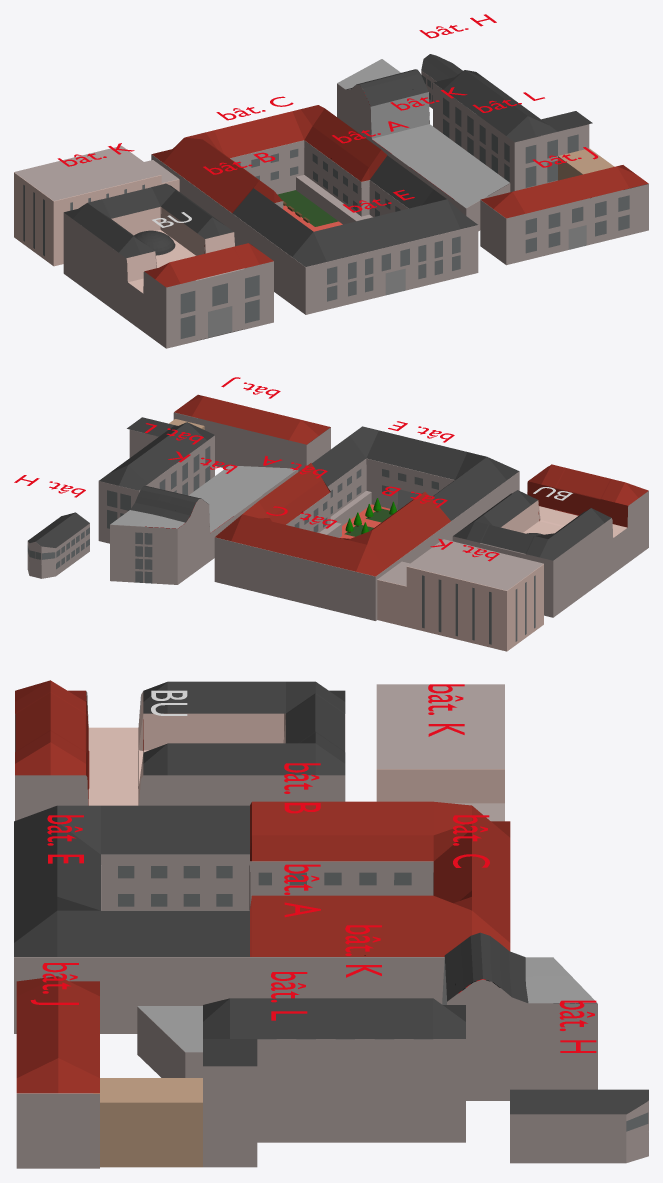
The model's file is bat4.glb.
3 views of the same model, one above another, from view 1: azimuth 30°, elevation 25°; view 2: azimuth 150°, elevation 25°; view 3: azimuth 270°, elevation 25° (orthographic). The views are drawn at different scales.
Parts seen in each view (by area): view 1: toits, Bâtiment principal, Cube.001, Cube.005, Cube.006, Cube, Cube.004, sol fac; view 2: toits, Bâtiment principal, Cube, Cube.004, Cube.001, Cube.006, Cube.005, Cube.007, sol fac; view 3: toits, Cube.006, Bâtiment principal, Cube.004, Cube.001, Cube.007, Cube.005, Cube, Texte.003, Texte.007, Texte.001, Texte.006 (+3 smaller).
Part boxes in pixels (x1=…): toits: x1=14, y1=54, x2=648, y2=293; Bâtiment principal: x1=151, y1=140, x2=478, y2=314; Cube.001: x1=63, y1=213, x2=273, y2=348; Cube.005: x1=480, y1=184, x2=648, y2=265; Cube.006: x1=433, y1=82, x2=622, y2=198; Cube: x1=14, y1=172, x2=179, y2=266; Cube.004: x1=337, y1=83, x2=510, y2=231; sol fac: x1=277, y1=190, x2=342, y2=231; toits: x1=28, y1=394, x2=648, y2=590; Bâtiment principal: x1=214, y1=458, x2=519, y2=620; Cube: x1=377, y1=564, x2=543, y2=651; Cube.004: x1=110, y1=469, x2=298, y2=584; Cube.001: x1=452, y1=483, x2=648, y2=617; Cube.006: x1=98, y1=419, x2=214, y2=543; Cube.005: x1=173, y1=412, x2=330, y2=471; Cube.007: x1=27, y1=523, x2=89, y2=578; sol fac: x1=340, y1=498, x2=397, y2=538; toits: x1=14, y1=680, x2=648, y2=1114; Cube.006: x1=93, y1=1039, x2=465, y2=1167; Bâtiment principal: x1=14, y1=854, x2=444, y2=1033; Cube.004: x1=137, y1=979, x2=597, y2=1100; Cube.001: x1=15, y1=691, x2=345, y2=820; Cube.007: x1=510, y1=1100, x2=648, y2=1163; Cube.005: x1=16, y1=1093, x2=99, y2=1168; Cube: x1=376, y1=769, x2=504, y2=803; Texte.003: x1=284, y1=763, x2=320, y2=813; Texte.007: x1=559, y1=1000, x2=596, y2=1052; Texte.001: x1=428, y1=684, x2=464, y2=736; Texte.006: x1=345, y1=925, x2=381, y2=977.
Size of the model in its own units: 17.59 by 2.69 by 12.02.
